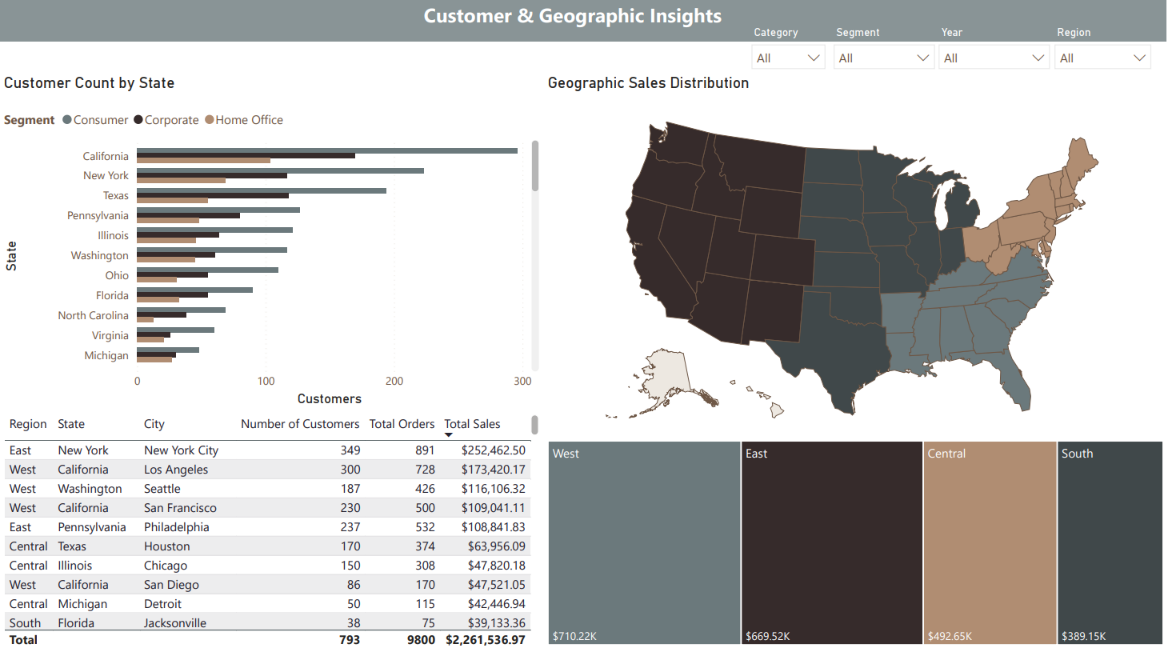

This screenshot's page, from the dashboard's own definition file:
{"tool":"powerbi","page":{"name":"Customer & Geographic Insights","canvas":[1280,720],"ordinal":2},"visuals":[{"type":"shape","box":[0,0,1280.3,48.9],"z":0},{"type":"textbox","box":[460,0,360,62.5],"z":1000},{"type":"slicer","fields":{"Values":["superstore sales.Order_Date.Variation.Date Hierarchy.Year"]},"box":[1019.3,27.3,141.4,69.3],"z":2000},{"type":"slicer","fields":{"Values":["superstore sales.Region"]},"box":[1145.7,27.3,126.4,69.3],"z":3000},{"type":"slicer","fields":{"Values":["superstore sales.Category"]},"box":[814.3,27.3,100.7,55.7],"z":4000},{"type":"slicer","fields":{"Values":["superstore sales.Segment"]},"box":[904.3,27.3,130.7,69.3],"z":5000},{"type":"clusteredBarChart","title":"Customer Count by State","fields":{"Category":["superstore sales.State"],"Y":["superstore sales.Number of Customers"],"Series":["superstore sales.Segment"]},"box":[0,83.8,596.2,368.8],"z":6000},{"type":"treemap","title":"Sales Distribution by Region","fields":{"Group":["superstore sales.Region"],"Values":["Sum(superstore sales.Sales)"]},"box":[596.2,452.5,683.8,263.8],"z":7000},{"type":"tableEx","fields":{"Values":["superstore sales.Region","superstore sales.State","superstore sales.City","superstore sales.Number of Customers","superstore sales.Total Orders","Sum(superstore sales.Sales)"]},"box":[0,452.5,596.2,267.5],"z":8000},{"type":"shapeMap","title":"Geographic Sales Distribution","fields":{"Category":["superstore sales.State"],"Series":["superstore sales.Region"]},"box":[596.2,83.8,676.2,401.2],"z":9000}]}

Visuals, with their boxes in screenshot pixels (x1, y1, x2, y2), scaled from the page's 1280x720 canvas onto the 1167x648 screenshot:
shape: locate(0, 0, 1166, 44)
textbox: locate(419, 0, 748, 56)
slicer - superstore sales.Order_Date.Variation.Date Hierarchy.Year: locate(929, 25, 1058, 87)
slicer - superstore sales.Region: locate(1045, 25, 1160, 87)
slicer - superstore sales.Category: locate(742, 25, 834, 75)
slicer - superstore sales.Segment: locate(824, 25, 944, 87)
"Customer Count by State" clusteredBarChart: locate(0, 75, 544, 407)
"Sales Distribution by Region" treemap: locate(544, 407, 1166, 645)
tableEx - superstore sales.Region x superstore sales.State: locate(0, 407, 544, 647)
"Geographic Sales Distribution" shapeMap: locate(544, 75, 1160, 436)
